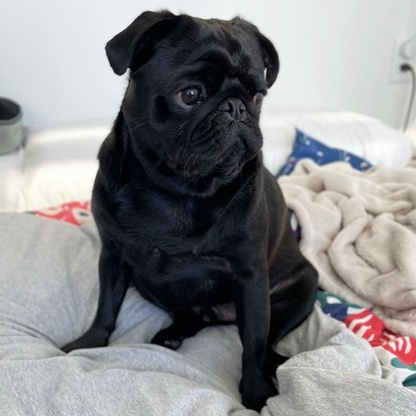Pug: (55, 4, 327, 413)
